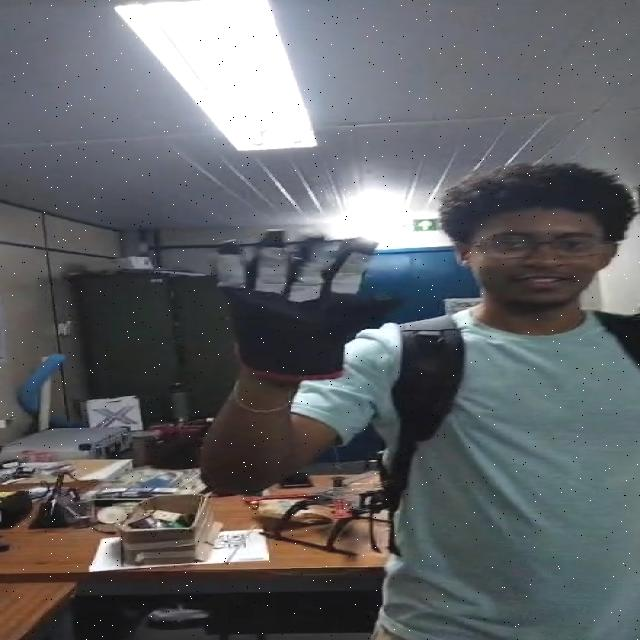Gloves: (209, 223, 401, 376)
